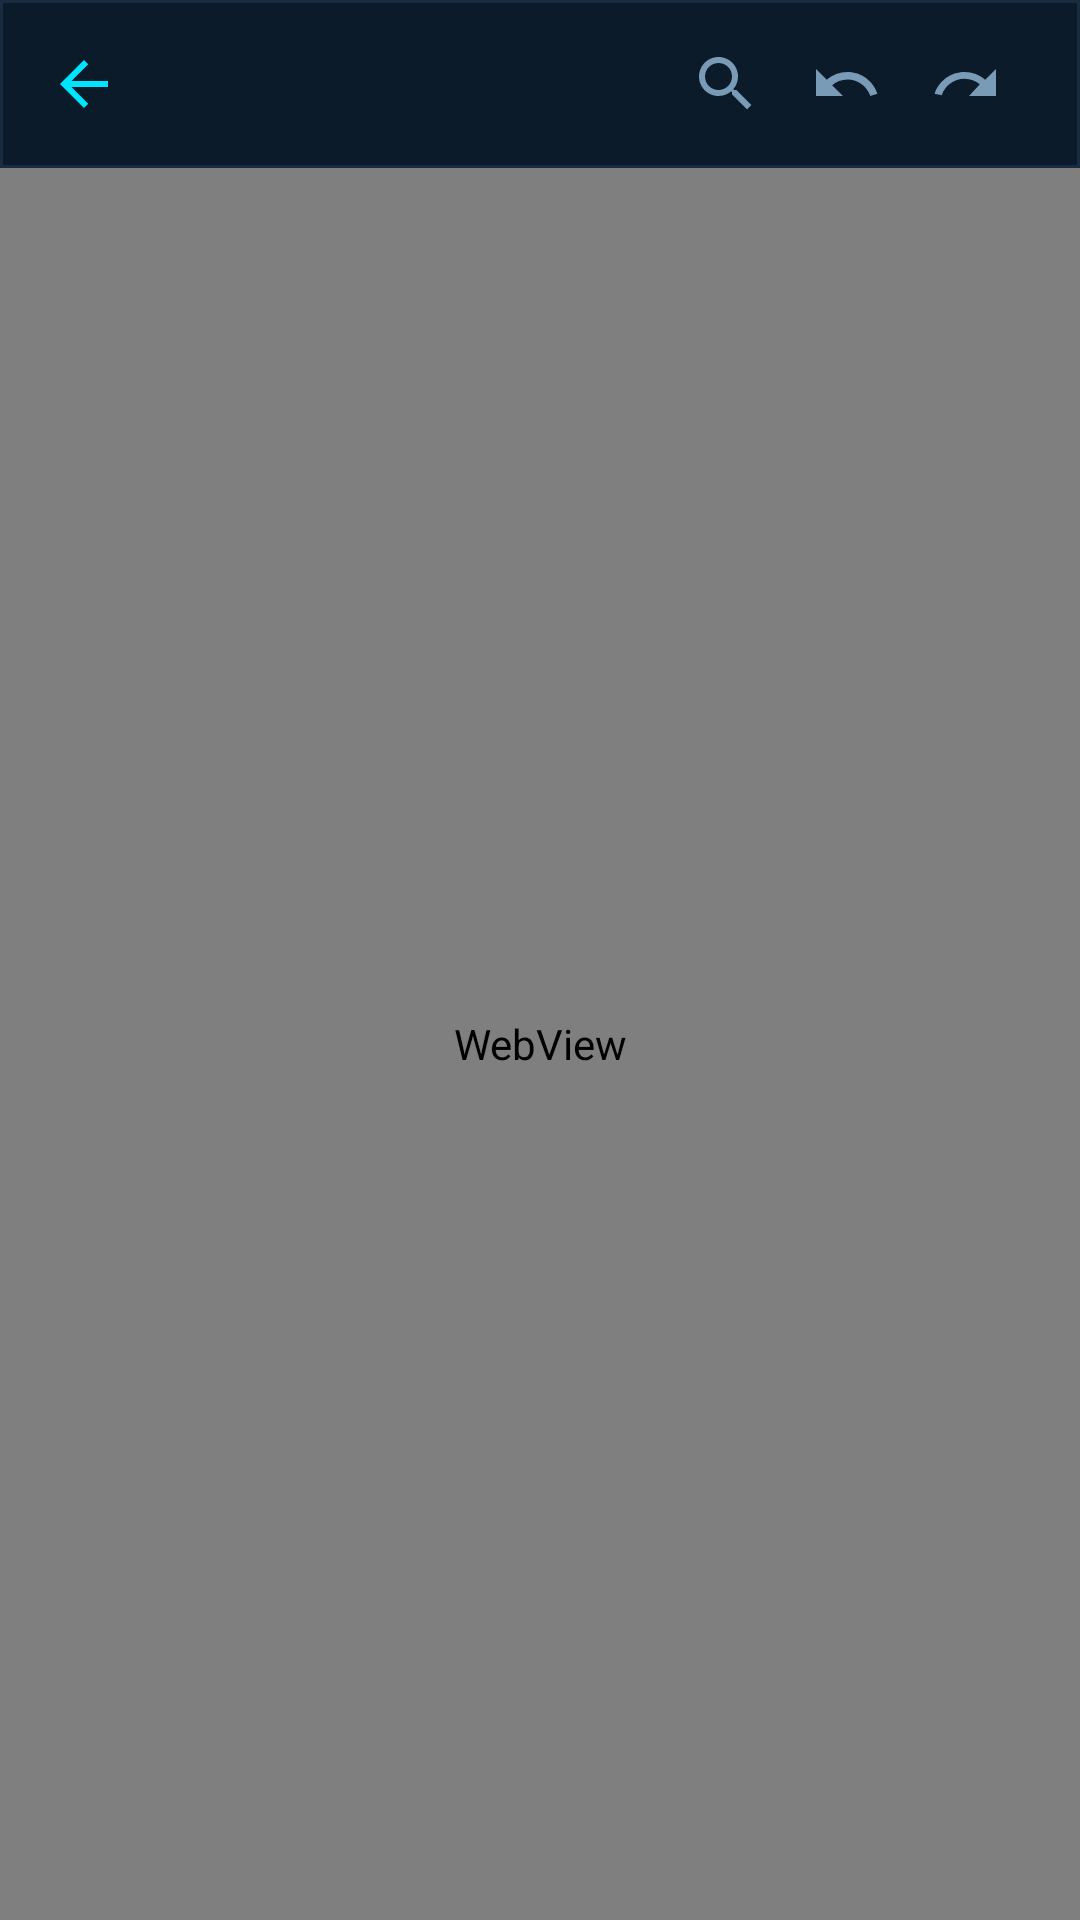

Screen size 1080 × 1920. Icon name, then its center in pixels as [x,y]:
Back: [84,84]
Redo: [965,82]
Search: [725,83]
Undo: [847,82]
